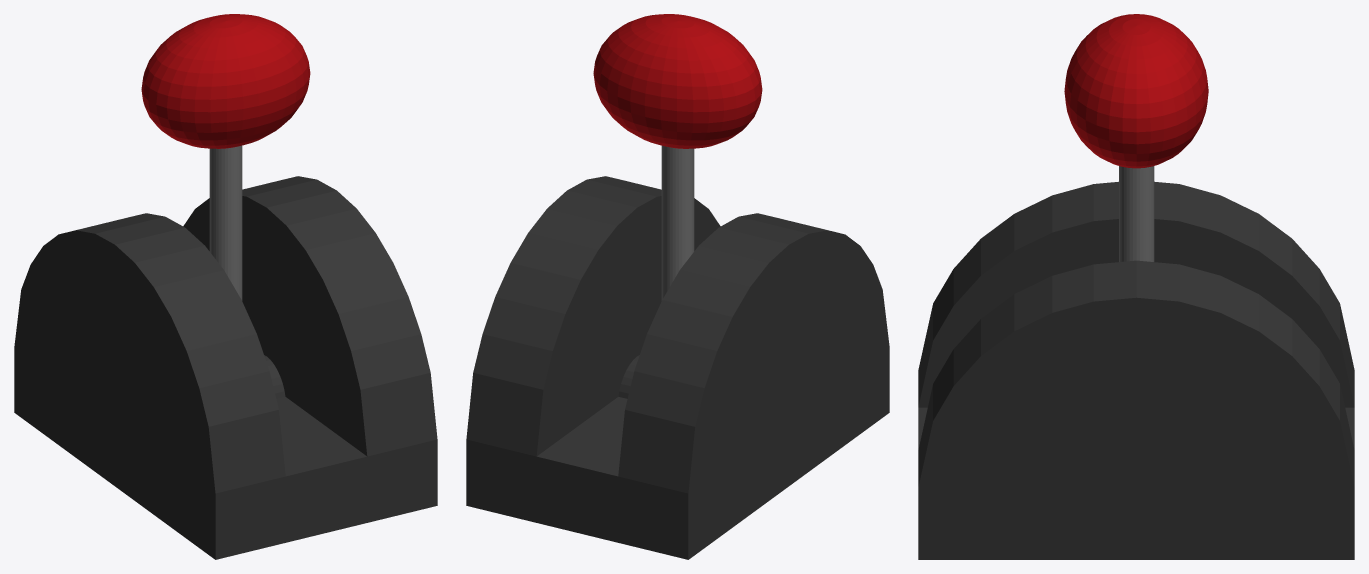
Rendered from 1AxisLever.fbx.
3 views of the same model, side by side, from view 1: azimuth 30°, elevation 25°; view 2: azimuth 150°, elevation 25°; view 3: azimuth 270°, elevation 25° (orthographic). The views are drawn at different scales.
Parts seen in each view (by area): view 1: Cylinder, Lever; view 2: Cylinder, Lever; view 3: Cylinder, Lever.
Part boxes in pixels (x1,y1,x2,y2): Cylinder: (14, 176, 437, 559); Lever: (141, 14, 310, 300); Cylinder: (466, 176, 889, 559); Lever: (593, 14, 762, 300); Cylinder: (918, 181, 1354, 559); Lever: (1064, 14, 1208, 261).
Bounding box in the file's own units: 386 × 727 × 605.
